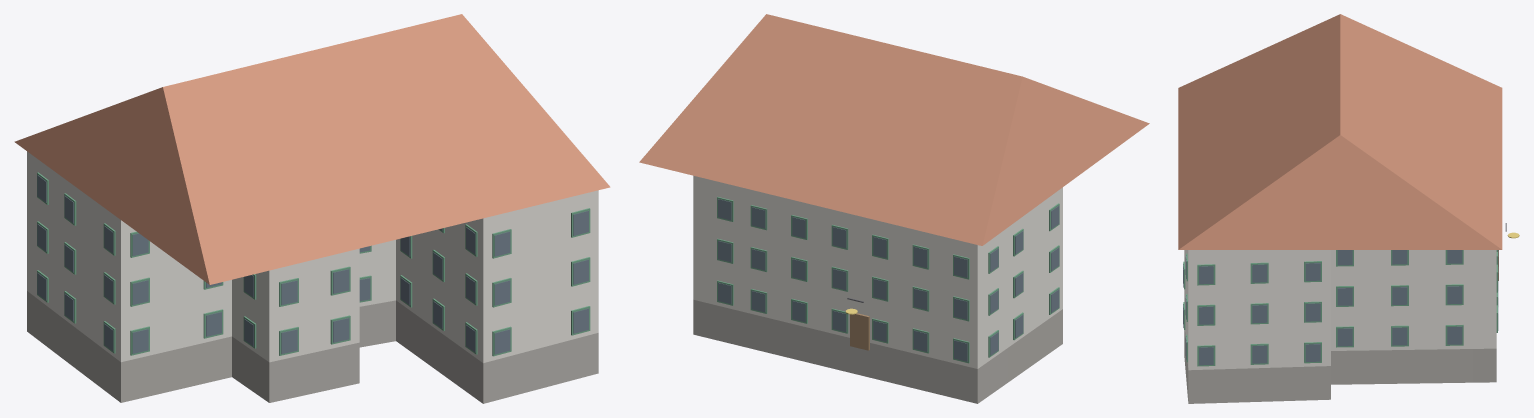
The model's file is inn-blessings-dorfmitte.glb.
3 renders of one model, left to right at view 1: azimuth 30°, elevation 25°; view 2: azimuth 150°, elevation 25°; view 3: azimuth 270°, elevation 25°, orthographic. The views are drawn at different scales.
Visible parts, largest first — view 1: building; view 2: building; view 3: building.
Boxes of the visible parts, x1,y1,x2,y2 form: building: (14,14,610,403); building: (639,14,1149,403); building: (1178,14,1519,403).
Bounding box in the file's own units: 25.74 × 18.6 × 22.91.
